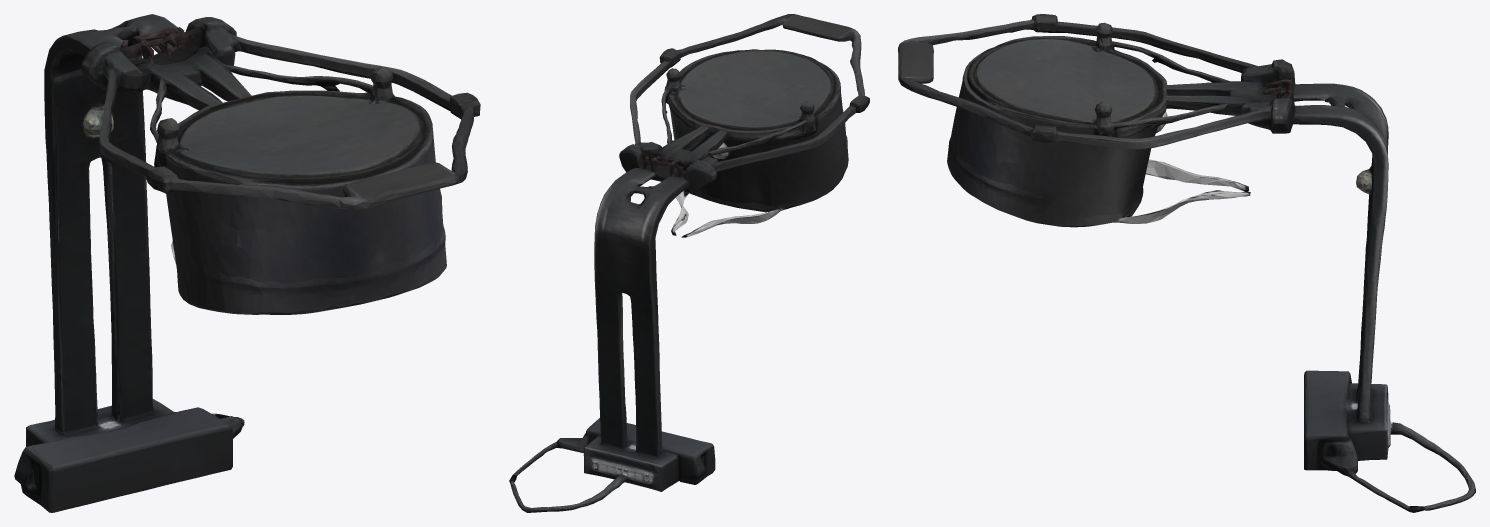
The model's file is ast_74f8f8b7a284.glb.
The picture shows the model from 3 angles, left to right: view 1: azimuth 30°, elevation 25°; view 2: azimuth 150°, elevation 25°; view 3: azimuth 270°, elevation 25°; orthographic projection. The views are drawn at different scales.
Visible parts, largest first — view 1: geometry_0; view 2: geometry_0; view 3: geometry_0.
Part boxes in pixels (left/top/right/bottom): geometry_0: left=14, top=14, right=480, bottom=512; geometry_0: left=509, top=14, right=869, bottom=512; geometry_0: left=898, top=14, right=1475, bottom=512.
Bounding box in the file's own units: 0.4876 × 0.7636 × 0.9974.
Materials: 1 (1 with a texture image).
